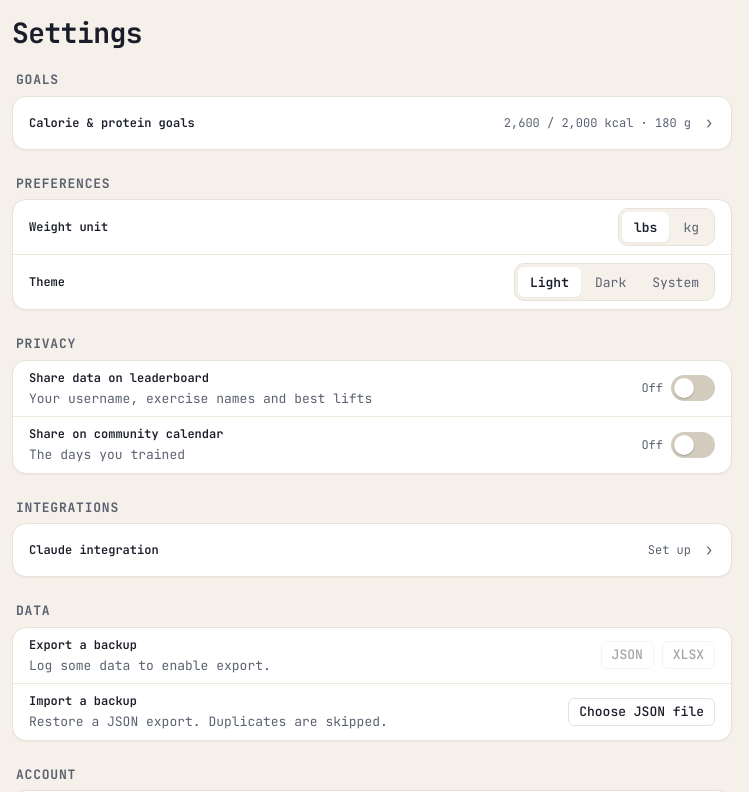
Test case: Settings — privacy / data sharing › reverts the toggle on PUT failure
Expected: the text "Share data on leaderboard" is shown, 29,370 -> 209,386
Click the button named "toggle data sharing": (693, 388) 671,375 -> 715,401
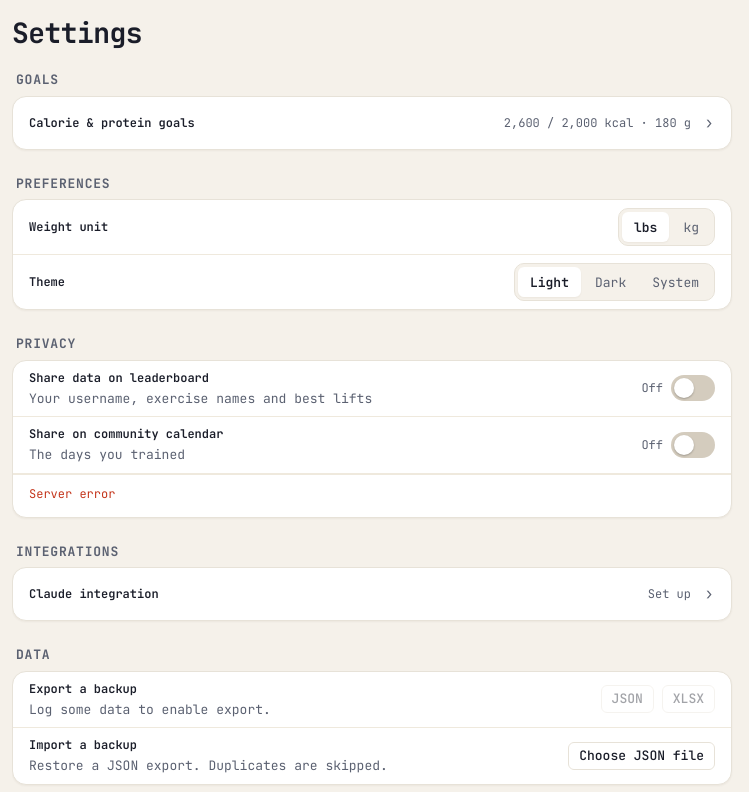
Expected: the text "Server error" is shown, 13,474 -> 731,516
